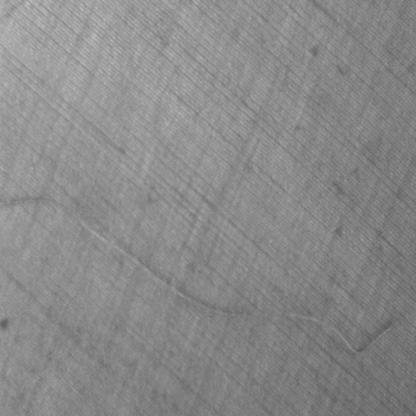objects: (0, 188, 401, 359)
